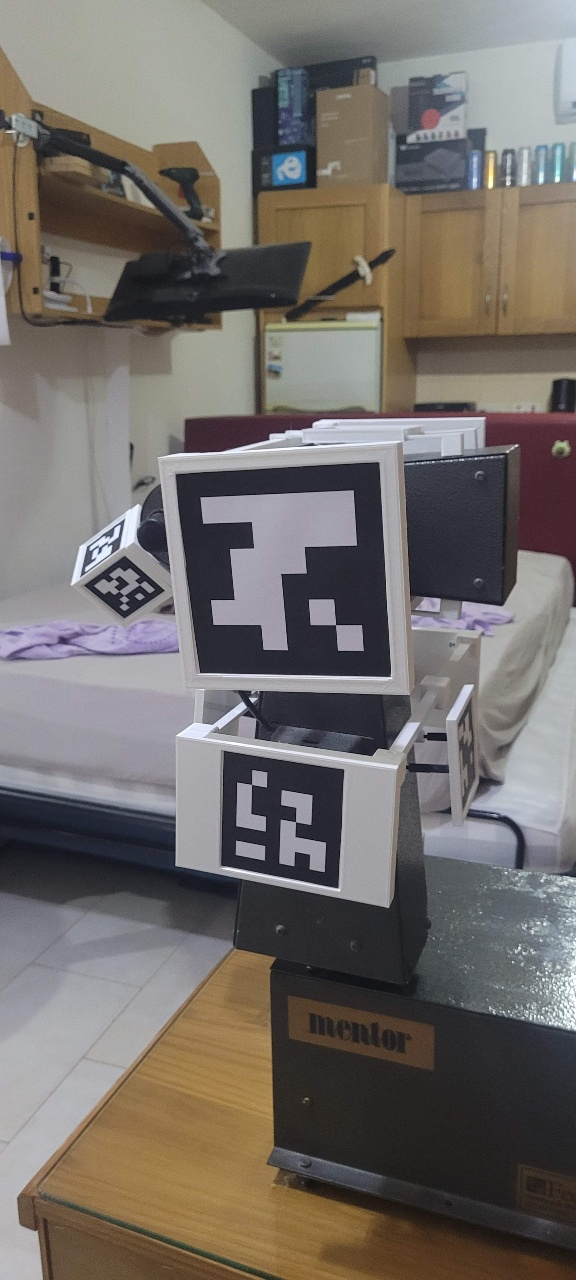Robot: (101, 82, 515, 941)
